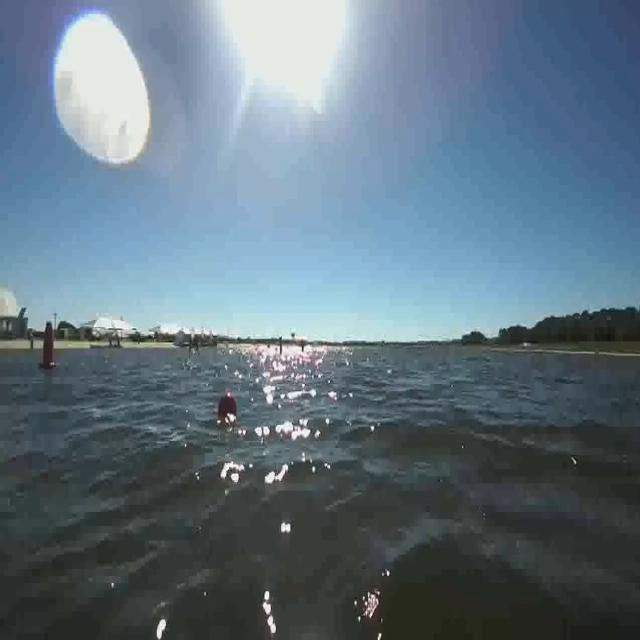red-buoy: (216, 390, 238, 424)
red-column-buoy: (38, 322, 57, 372)
